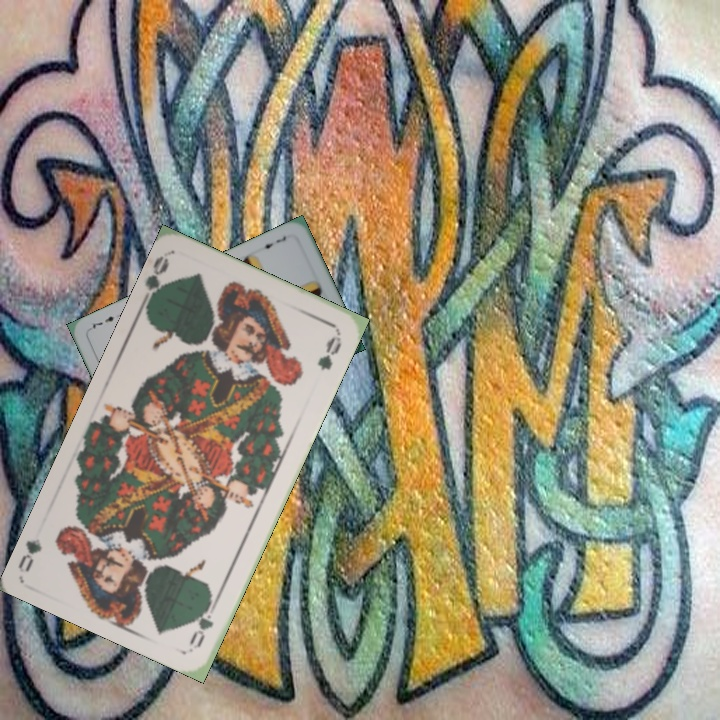E7: (256, 232, 289, 252)
GO: (137, 251, 174, 309), (185, 593, 222, 650)
